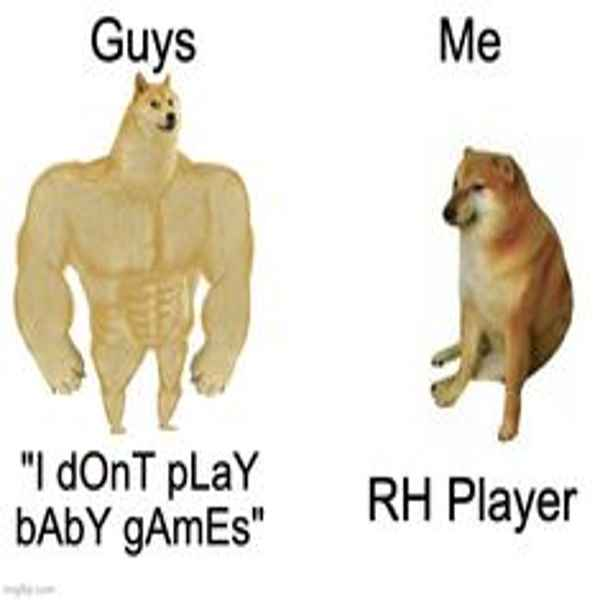doge: (429, 146, 533, 238), (112, 70, 199, 150)
